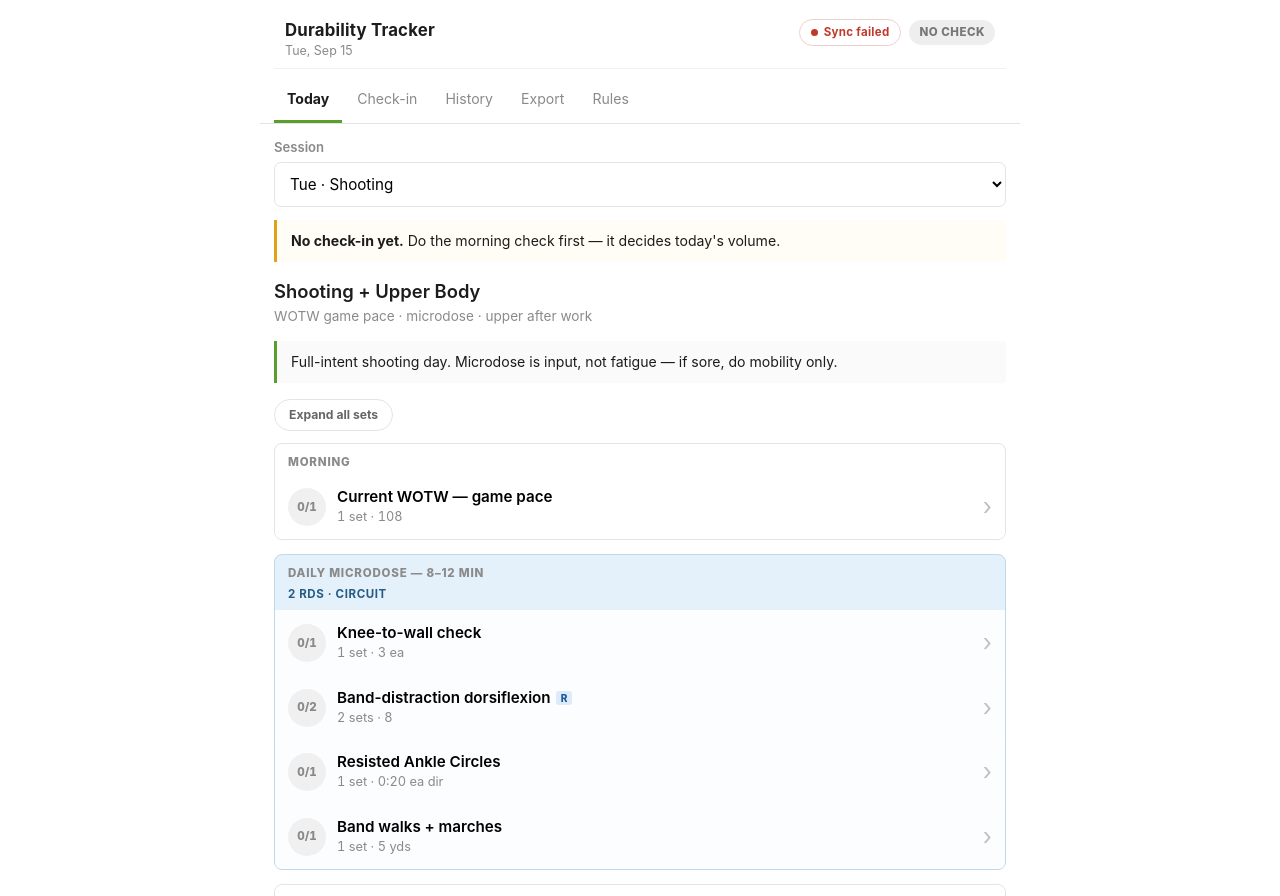
exercise detail › disables Up next only when nothing is left
Select "Sun · Off" in the dropdown labelled "Session" at (640,184), box [274,162,1006,207]
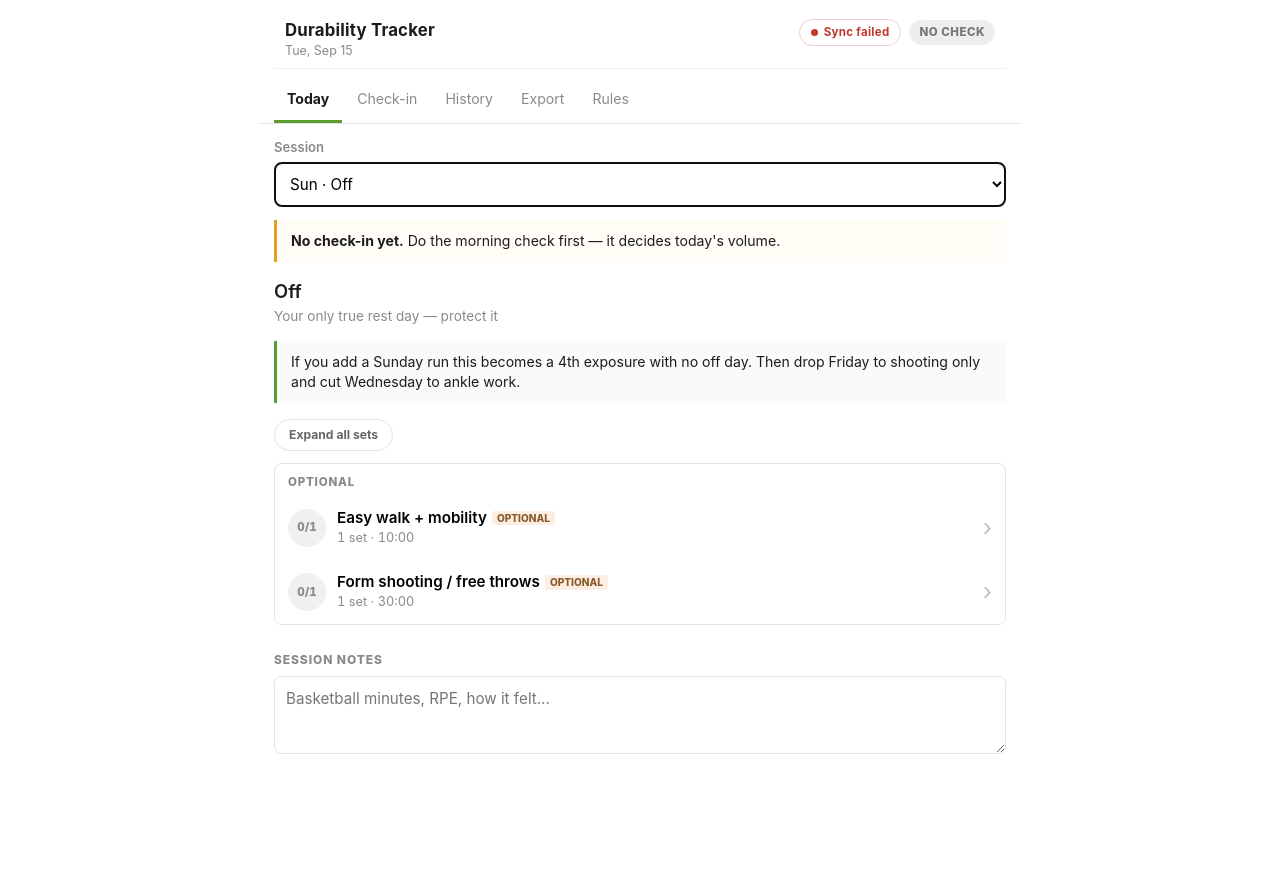
Click the button with class "orow" that starts with "Form shooting / free throws" at (307,592), box [275,559,1005,624]
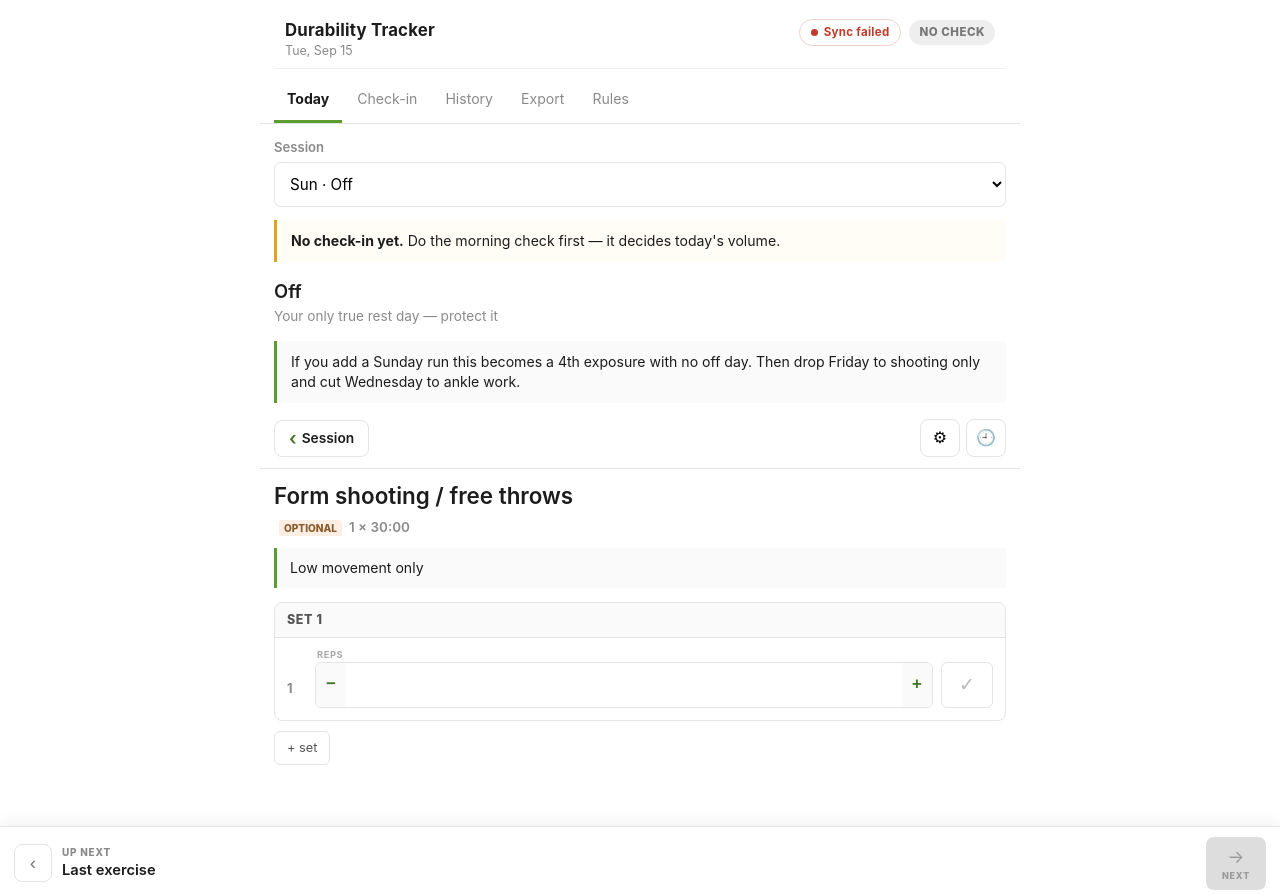
Now the button with aria-label "Next exercise" is disabled, box [1206,836,1266,890]
Now the text with class "unname" reads "Last exercise", box [62,861,156,879]
